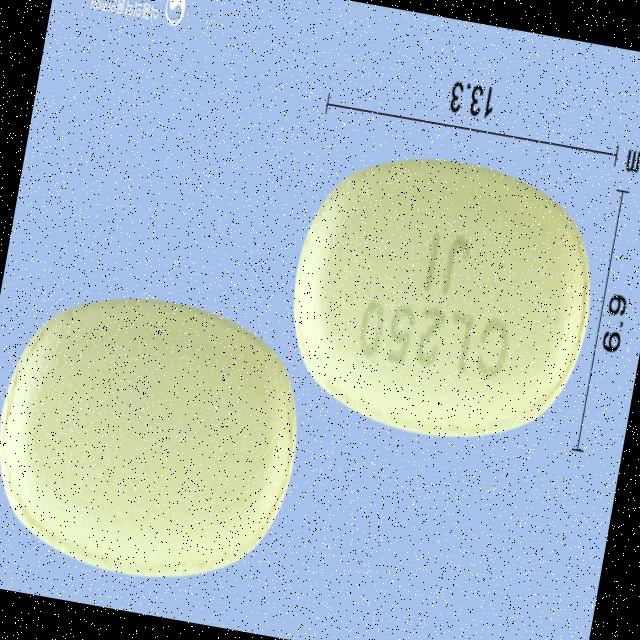Jecli - 500mg: (270, 134, 612, 460), (0, 276, 317, 603)
